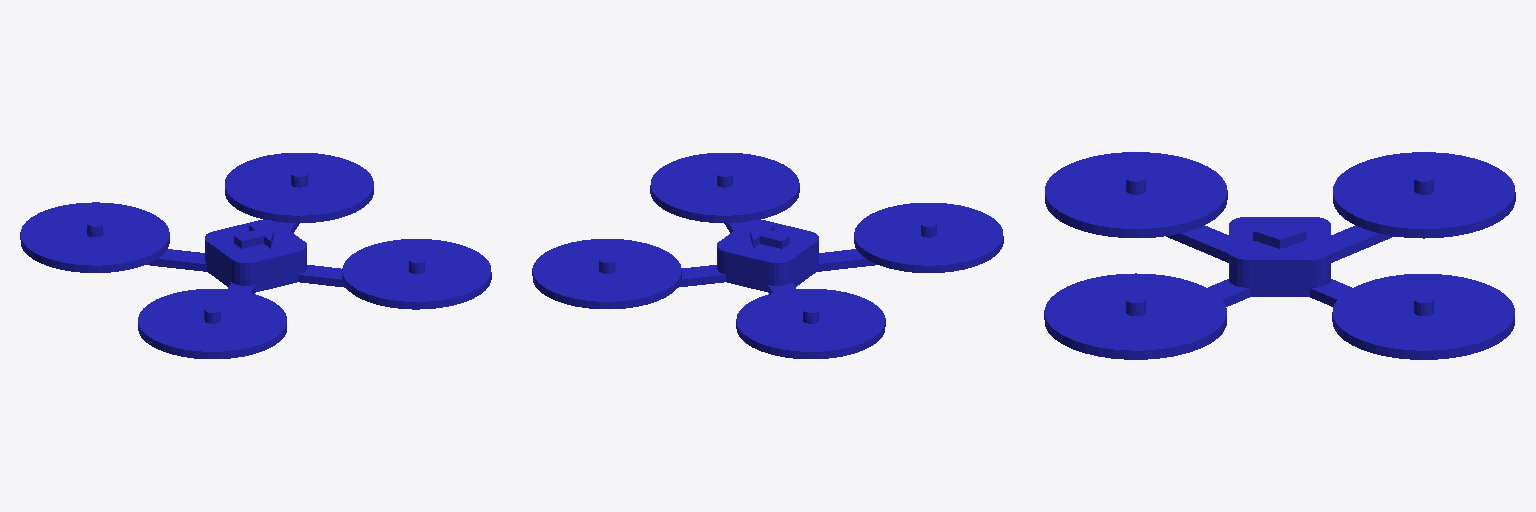
URDF robot description (quadrotor):
<?xml version="1.0"?>
<robot name="quadrotor">
    <link name="base_link">
        <inertial>
            <origin rpy="0 0 0" xyz="0 0 0" />
            <mass value="1" />
            <inertia ixx="0.005" ixy="0.0" ixz="0.0" iyy="0.005" iyz="0.0" izz="0.01" />
        </inertial>

        <visual>
            <origin rpy="1.57 0 1.57" xyz="0 0 0" />
            <geometry>
                <mesh filename="quadrotor.stl" />
            </geometry>
            <material name="woody">
                <color rgba="0.2 0.2 0.8 1" />
            </material>
        </visual>
        <collision>
            <origin rpy="1.57 0 1.57" xyz="0 0 0" />
            <geometry>
                <!-- <sphere radius="0.1" /> -->
                <mesh filename="quadrotor.stl" />
            </geometry>
        </collision>
    </link>

    <link name="prop0_link">
        <inertial>
            <origin rpy="0 0 0" xyz="0.07 -0.07 0" />
            <mass value="0" />
            <inertia ixx="0" ixy="0" ixz="0" iyy="0" iyz="0" izz="0" />
        </inertial>
    </link>
    <joint name="prop0_joint" type="fixed">
        <parent link="base_link" />
        <child link="prop0_link" />
    </joint>

    <link name="prop1_link">
        <inertial>
            <origin rpy="0 0 0" xyz="-0.07 0.07 0" />
            <mass value="0" />
            <inertia ixx="0" ixy="0" ixz="0" iyy="0" iyz="0" izz="0" />
        </inertial>
    </link>
    <joint name="prop1_joint" type="fixed">
        <parent link="base_link" />
        <child link="prop1_link" />
    </joint>

    <link name="prop2_link">
        <inertial>
            <origin rpy="0 0 0" xyz="0.07 0.07 0" />
            <mass value="0" />
            <inertia ixx="0" ixy="0" ixz="0" iyy="0" iyz="0" izz="0" />
        </inertial>
    </link>
    <joint name="prop2_joint" type="fixed">
        <parent link="base_link" />
        <child link="prop2_link" />
    </joint>

    <link name="prop3_link">
        <inertial>
            <origin rpy="0 0 0" xyz="-0.07 -0.07 0" />
            <mass value="0" />
            <inertia ixx="0" ixy="0" ixz="0" iyy="0" iyz="0" izz="0" />
        </inertial>
    </link>
    <joint name="prop3_joint" type="fixed">
        <parent link="base_link" />
        <child link="prop3_link" />
    </joint>

</robot>

--- Facts derived from the render (not from the file) ---
3 views of the same robot in one strip: view 1: azimuth 30°, elevation 25°; view 2: azimuth 150°, elevation 25°; view 3: azimuth 270°, elevation 25° (orthographic).
Model quadrotor with 5 links and 4 joints (4 fixed), rooted at base_link, posed every joint at zero.
Visible links, largest first — view 1: base_link; view 2: base_link; view 3: base_link.
Link boxes in pixels (box(x1,y1,x2,y2)): base_link: box(20, 153, 491, 358); base_link: box(532, 153, 1003, 358); base_link: box(1044, 152, 1515, 359).
Bounding box of the posed robot: 0.2289 × 0.2289 × 0.0251 m (x, y, z).
Meshes: 1 distinct files referenced, 1 mesh visuals loaded (1 binary STL).
